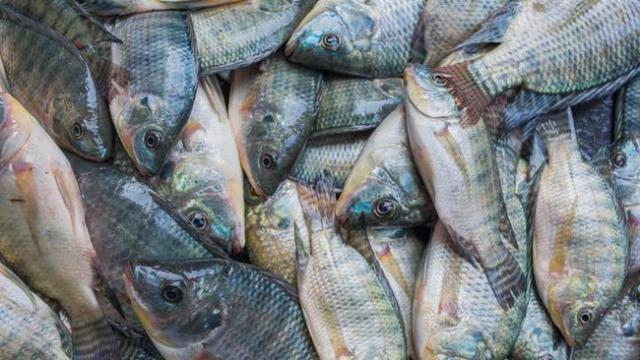Mulut: (109, 248, 158, 298), (212, 218, 264, 258), (272, 33, 318, 77), (388, 43, 432, 82), (246, 170, 284, 214), (559, 320, 601, 358), (326, 201, 356, 243), (134, 154, 164, 186)
Sirip Ekor: (429, 48, 503, 132), (282, 164, 350, 244), (478, 242, 540, 320)
